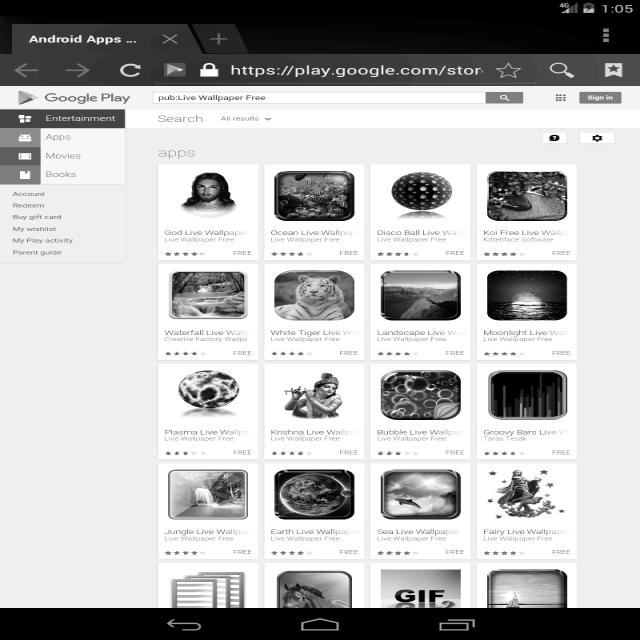Button: (573, 88, 628, 108)
EditText: (144, 87, 530, 107)
ImageButton: (579, 125, 618, 146), (57, 59, 93, 81), (546, 58, 578, 82), (114, 59, 148, 80), (11, 61, 48, 80), (596, 59, 626, 81), (492, 61, 526, 80), (594, 25, 621, 47), (538, 128, 572, 145), (158, 61, 187, 80), (194, 61, 223, 79)
ImageView: (180, 576, 570, 602), (486, 170, 570, 224), (491, 268, 569, 322), (381, 272, 466, 320), (272, 272, 358, 319), (383, 372, 465, 418), (169, 467, 247, 515), (277, 170, 353, 219), (494, 369, 570, 418), (275, 368, 347, 419), (4, 85, 38, 184), (171, 270, 243, 316), (280, 467, 346, 515), (172, 170, 239, 216), (170, 372, 246, 412), (383, 472, 452, 514), (492, 472, 556, 512)
RatingBar: (265, 443, 318, 459), (265, 545, 323, 559), (160, 545, 214, 558), (161, 247, 214, 259), (378, 346, 420, 360), (377, 448, 429, 459), (376, 247, 418, 260), (484, 548, 532, 558)
TextView: (8, 188, 80, 258), (233, 62, 471, 82), (371, 524, 461, 542), (24, 32, 138, 46), (45, 91, 136, 105), (161, 226, 240, 241), (378, 327, 454, 341), (271, 426, 346, 440), (42, 113, 121, 125), (374, 230, 448, 242)
